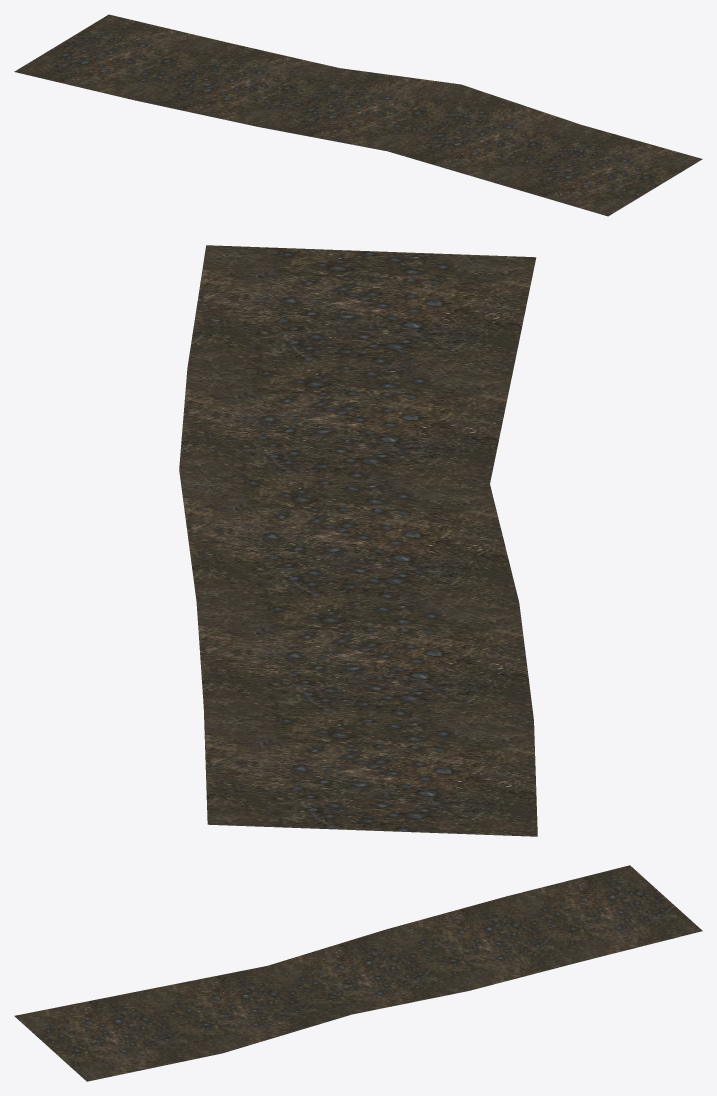
Rendered from blend_path.fbx.
3 views of the same model, one above another, from view 1: azimuth 30°, elevation 25°; view 2: azimuth 150°, elevation 25°; view 3: azimuth 270°, elevation 25° (orthographic). The views are drawn at different scales.
Parts seen in each view (by area): view 1: new_stone/cemetery_path_shadow; view 2: new_stone/cemetery_path_shadow; view 3: new_stone/cemetery_path_shadow.
Part boxes in pixels (x1=…): new_stone/cemetery_path_shadow: x1=14, y1=14, x2=702, y2=216; new_stone/cemetery_path_shadow: x1=179, y1=245, x2=537, y2=836; new_stone/cemetery_path_shadow: x1=14, y1=865, x2=702, y2=1081.
Bounding box in the file's own units: 13.05 × 0.2633 × 17.55.
